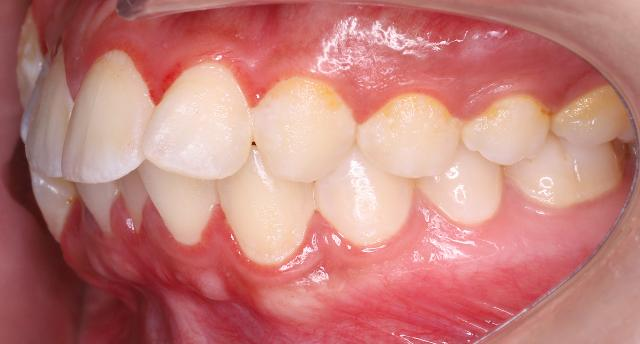canine class II 1/4: (218, 79, 414, 271)
molar class III 1/2: (513, 85, 635, 217)
